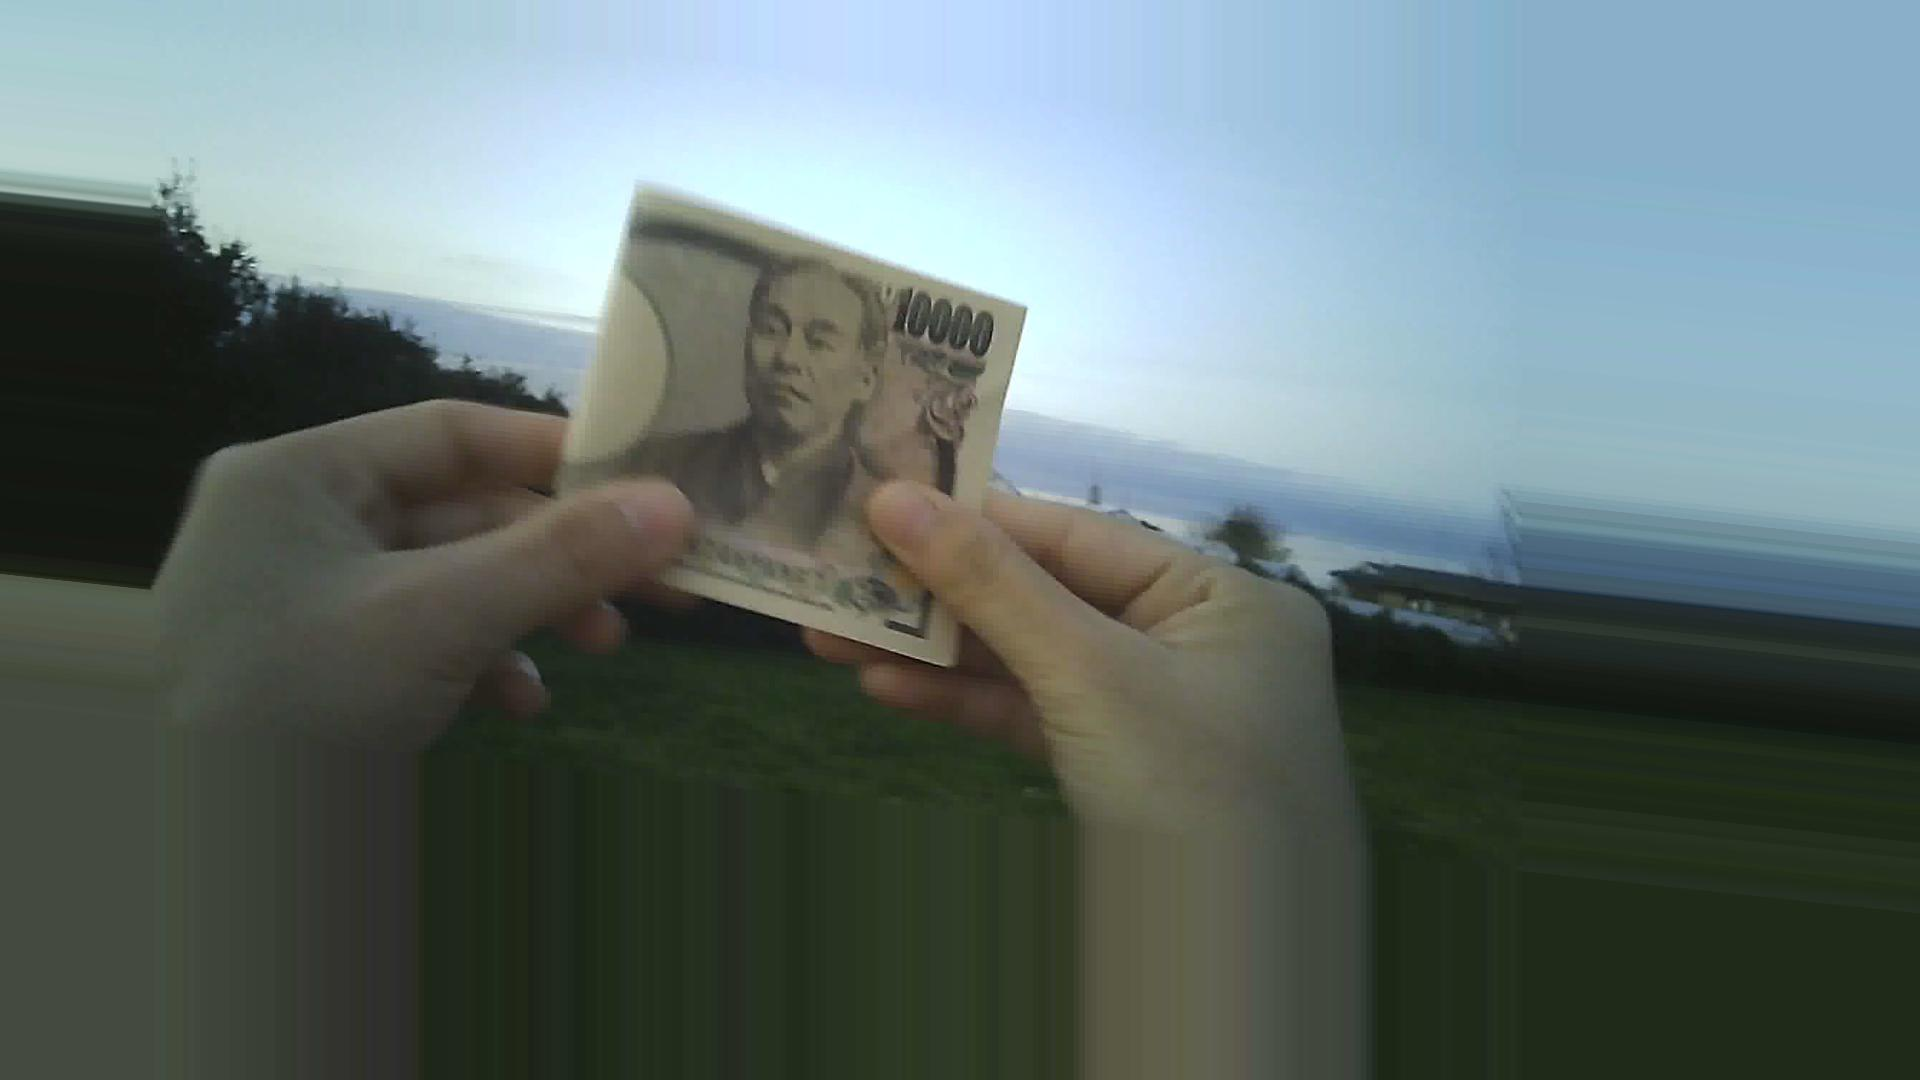10,000 Yen: (516, 175, 1004, 670)
